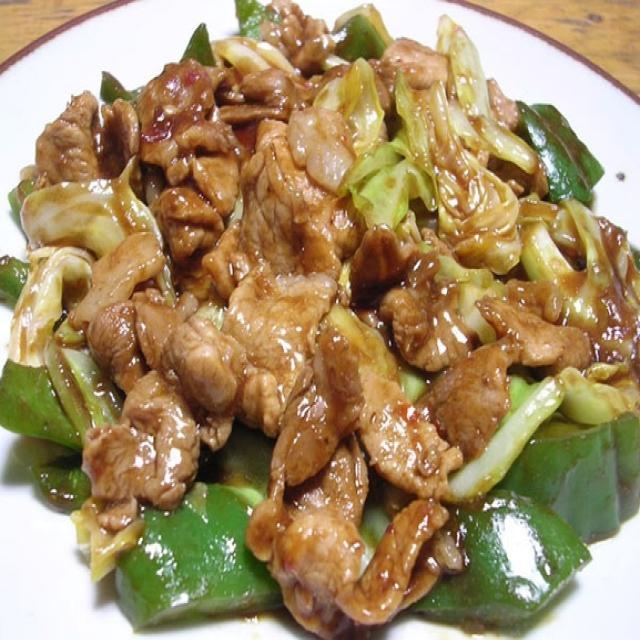猪肉菜式: (11, 10, 636, 608)
